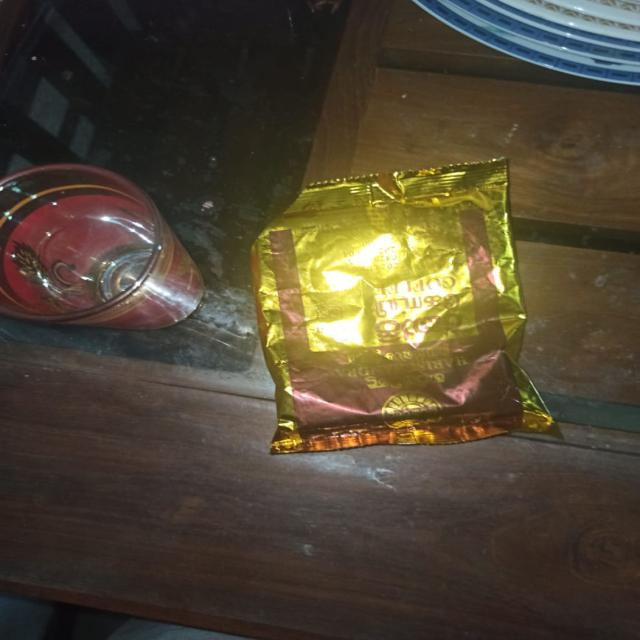Harischandra Coffee: (199, 175, 640, 468)
